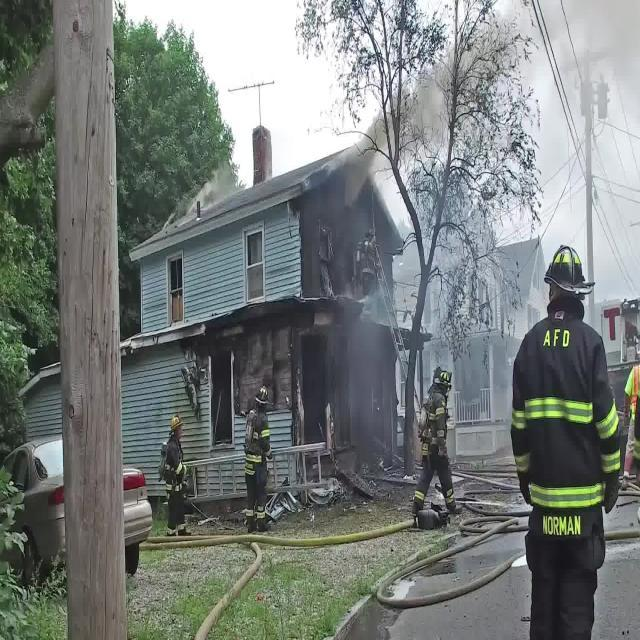Smoke: (325, 0, 636, 493)
